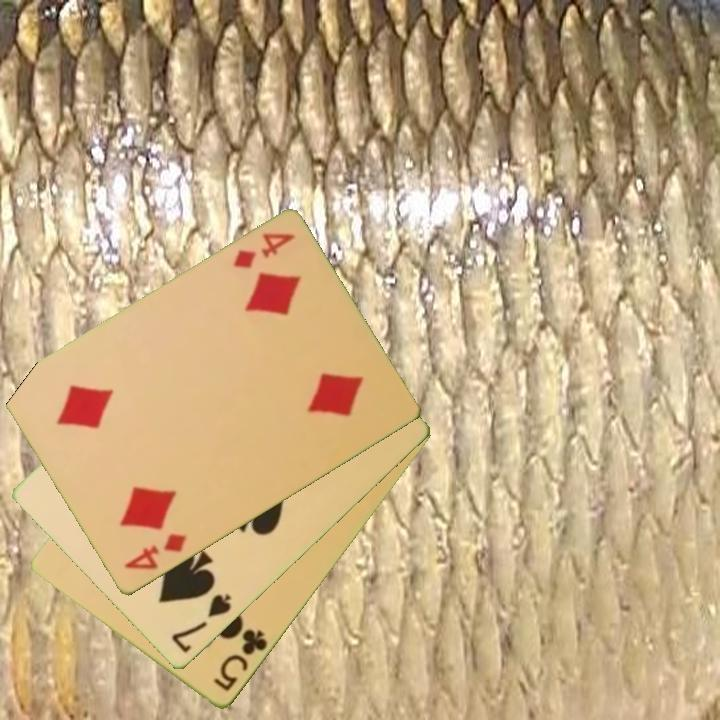4d: (120, 530, 190, 574), (229, 229, 298, 273)
5c: (210, 626, 271, 695)
7s: (168, 590, 235, 657)
